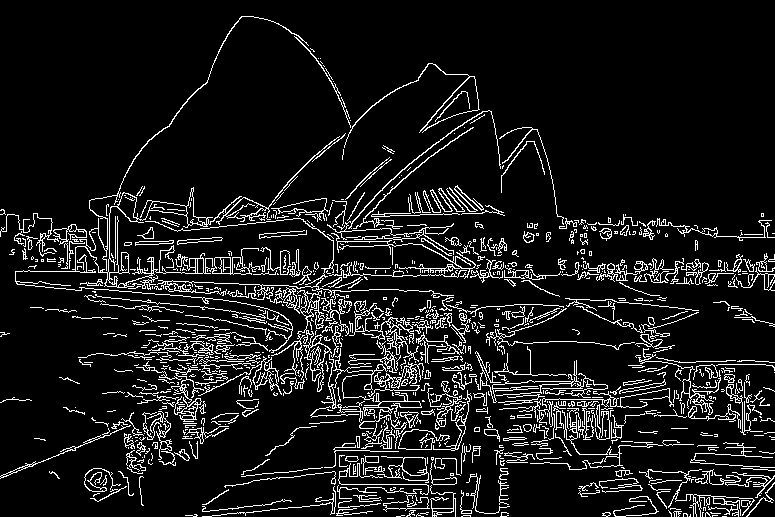opera house: (59, 4, 582, 250)
